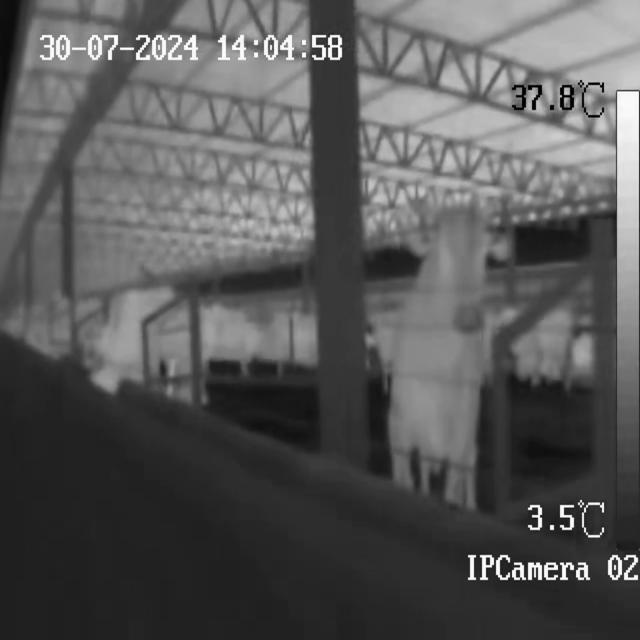eye: (438, 239, 455, 277)
head: (431, 203, 490, 338)
